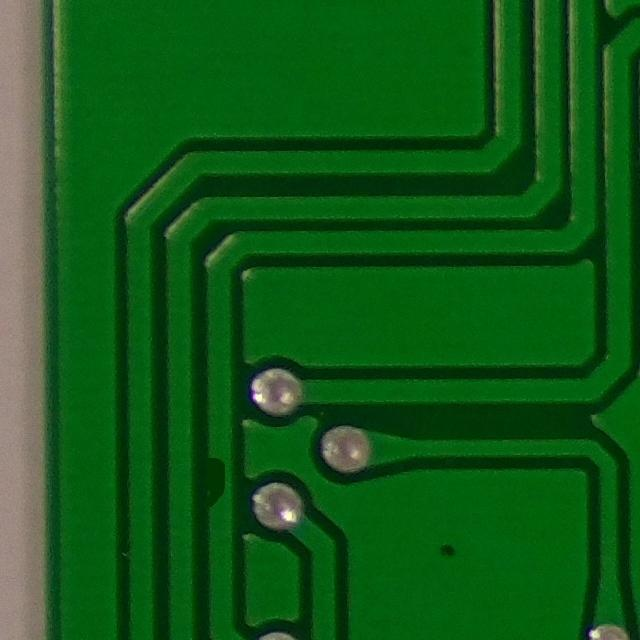mouse_bite: (199, 441, 244, 534)
